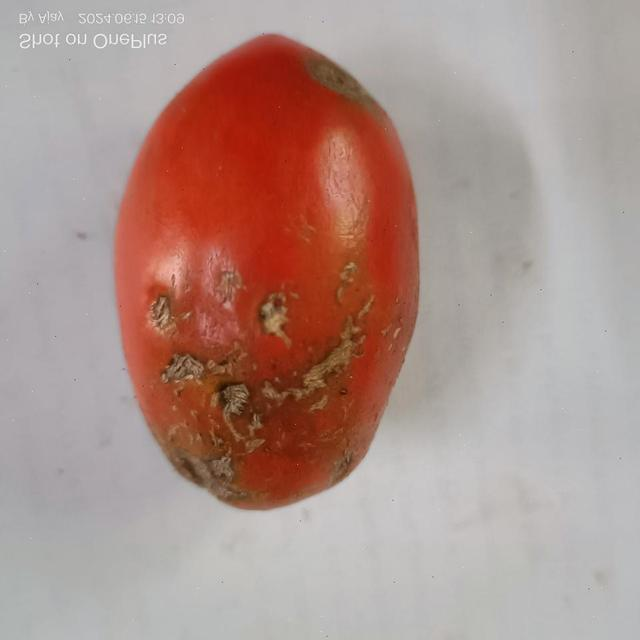Bacterial Spot Fruit: (23, 26, 209, 297)
